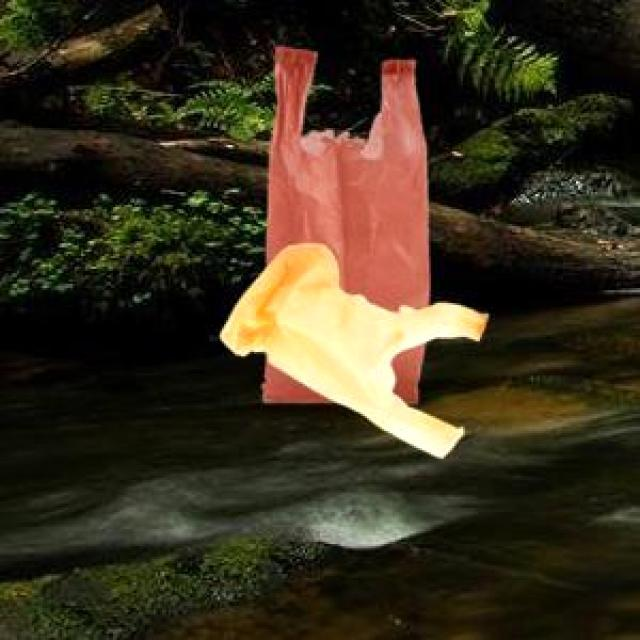Plastic_Bag: (259, 43, 426, 400), (217, 240, 486, 453)
